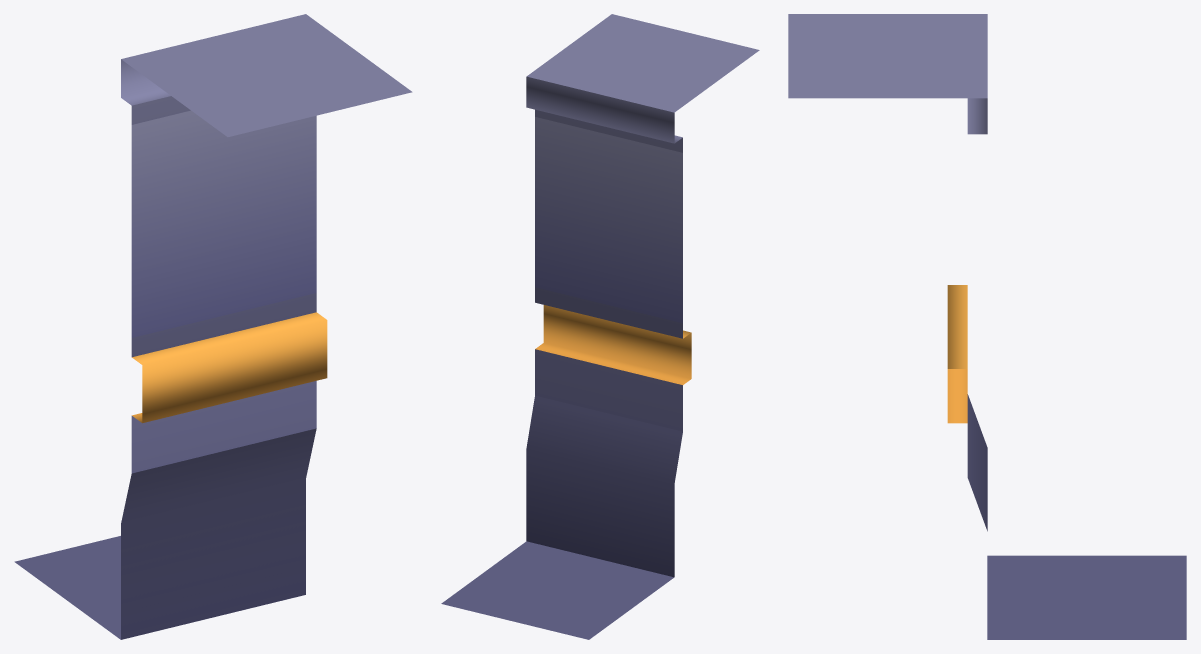
File: structure-wall.glb
The picture shows the model from 3 angles, left to right: view 1: azimuth 30°, elevation 25°; view 2: azimuth 150°, elevation 25°; view 3: azimuth 270°, elevation 25°; orthographic projection. The views are drawn at different scales.
Parts seen in each view (by area): view 1: structure-wall; view 2: structure-wall; view 3: structure-wall.
Boxes of the visible parts, bbox=[...] form: structure-wall: bbox=[14, 14, 412, 639]; structure-wall: bbox=[441, 14, 759, 639]; structure-wall: bbox=[788, 14, 1186, 639].
Size of the model in its own units: 1 by 3 by 2.
